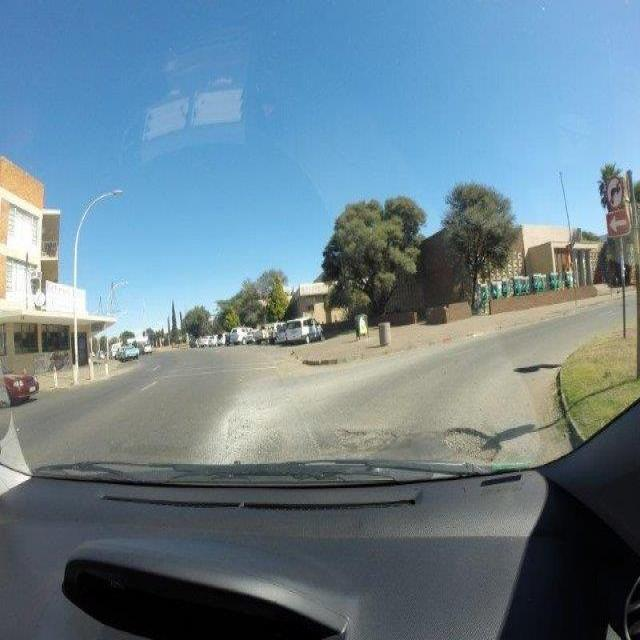lubang: (434, 418, 509, 466), (337, 424, 421, 458)
